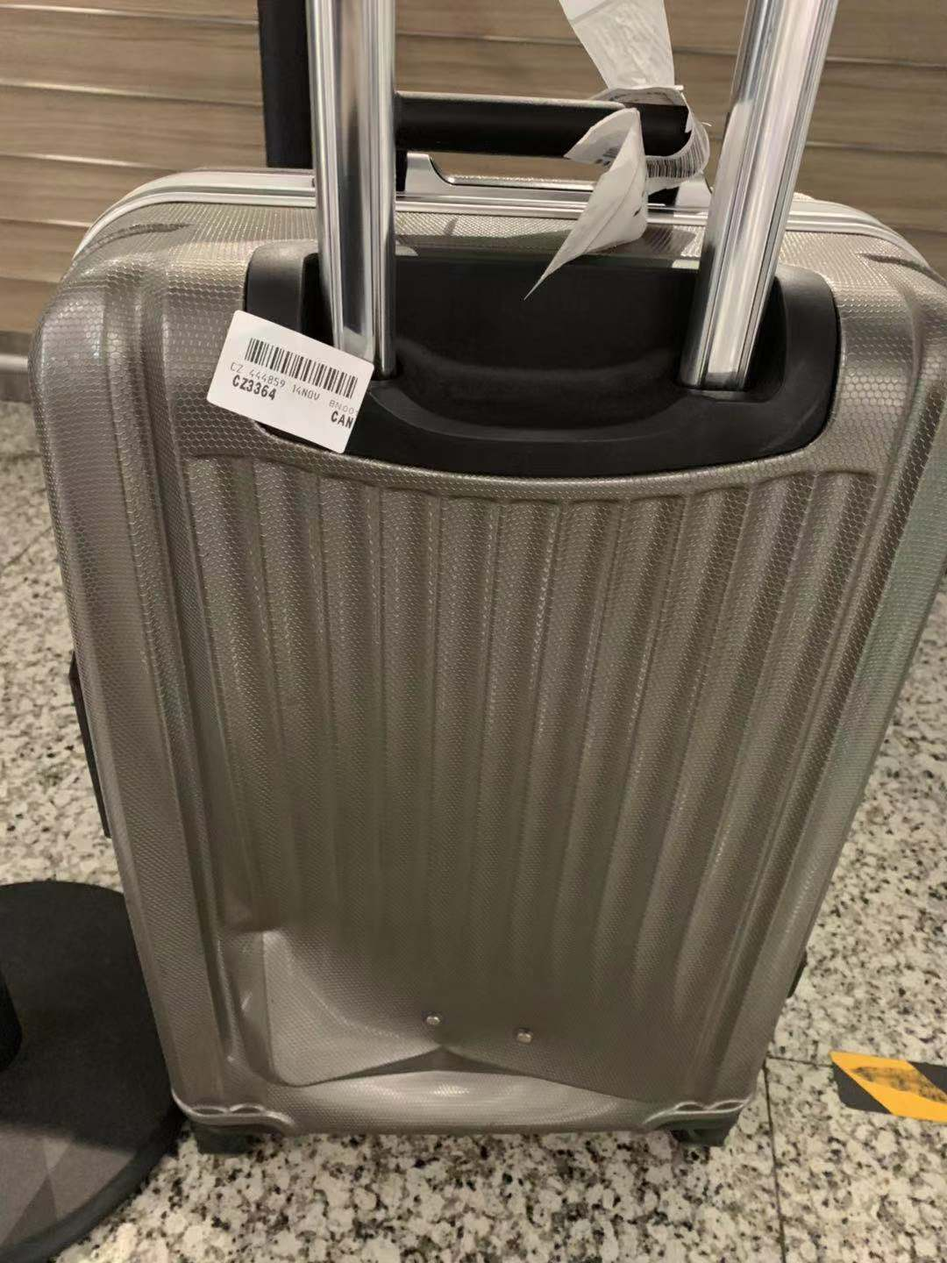rupture: (235, 896, 439, 1088)
